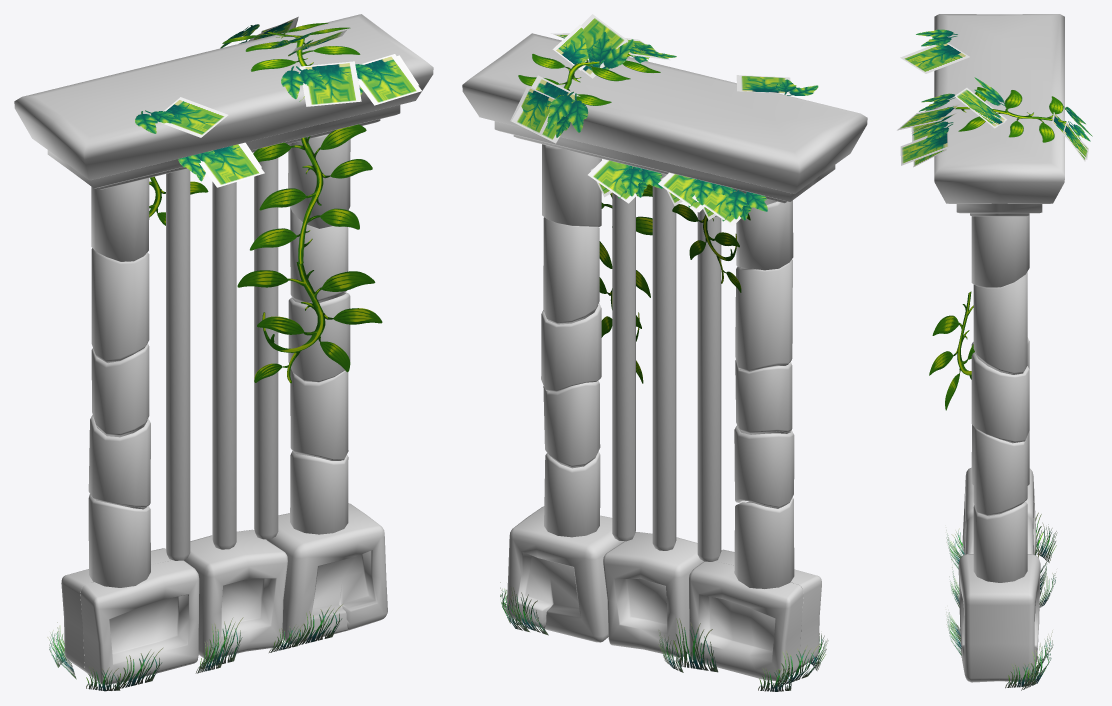
The model's file is SM_WindowBars.fbx.
3 views of the same model, side by side, from view 1: azimuth 30°, elevation 25°; view 2: azimuth 150°, elevation 25°; view 3: azimuth 270°, elevation 25° (orthographic). The views are drawn at different scales.
Visible parts, largest first — view 1: WindowBarsMesh; view 2: WindowBarsMesh; view 3: WindowBarsMesh.
Part boxes in pixels (x1,y1,x2,y2): WindowBarsMesh: (14, 14, 433, 691); WindowBarsMesh: (462, 14, 867, 691); WindowBarsMesh: (897, 14, 1092, 690).
Bounding box in the file's own units: 445 × 750 × 238.
